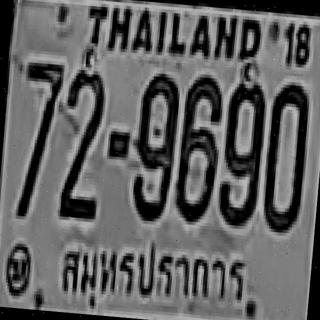N00: (259, 80, 312, 231)
N02: (56, 67, 106, 214), (58, 64, 107, 202)
N06: (172, 71, 223, 222)
N07: (14, 59, 65, 212), (19, 59, 65, 157)
N09: (129, 69, 180, 219), (214, 78, 266, 225)
P57: (52, 226, 252, 320)
